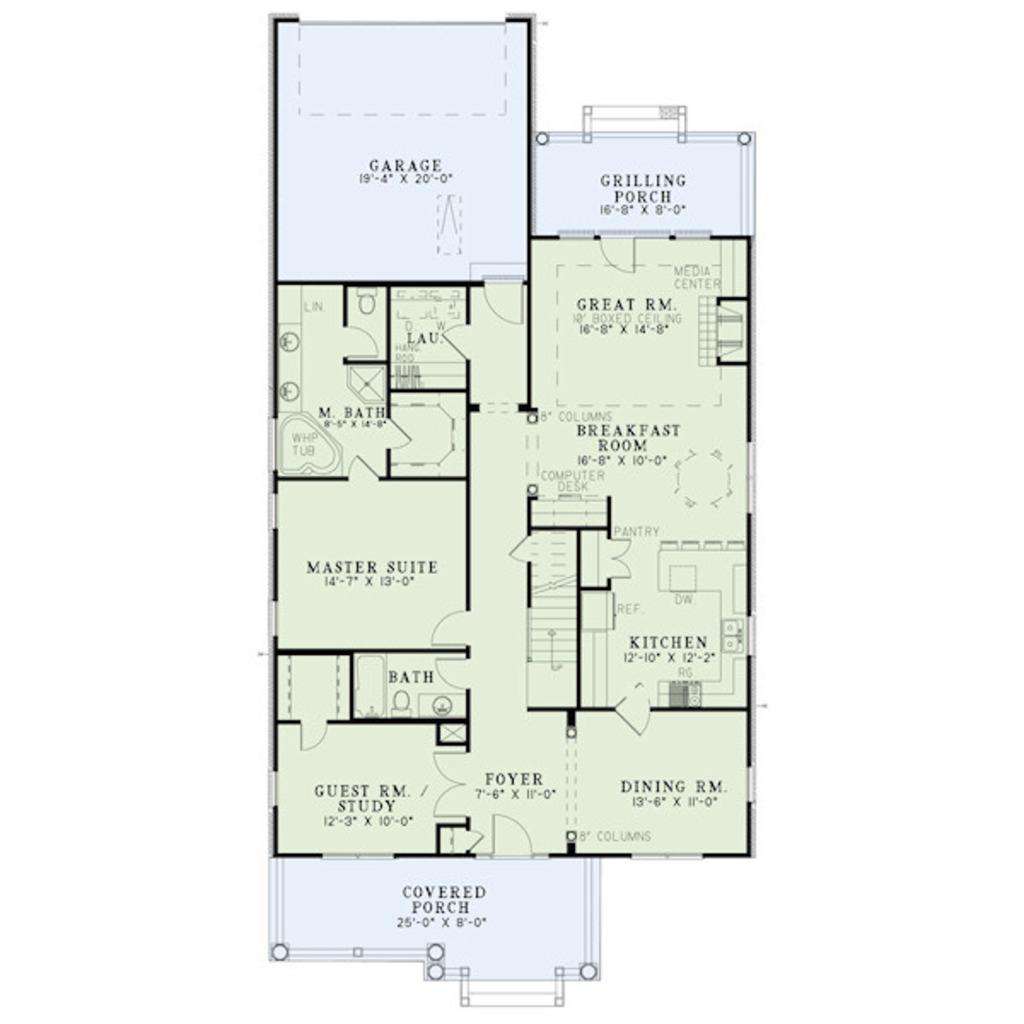door: (427, 744, 480, 824), (480, 266, 539, 330), (425, 600, 480, 653), (334, 319, 386, 364), (591, 535, 636, 585), (608, 702, 664, 742), (492, 808, 536, 858), (603, 235, 642, 285), (291, 713, 336, 753), (502, 532, 550, 567), (434, 653, 477, 692), (341, 444, 377, 482), (381, 419, 417, 452), (442, 324, 472, 363)
large_sink: (344, 283, 388, 317), (391, 688, 417, 727)
small_sink: (266, 327, 309, 410), (422, 696, 472, 719)
stairs: (530, 524, 589, 713)
tub: (353, 650, 384, 722)
twin_sink: (716, 610, 755, 661)
window: (739, 433, 761, 510), (319, 846, 406, 863), (628, 850, 719, 864)
